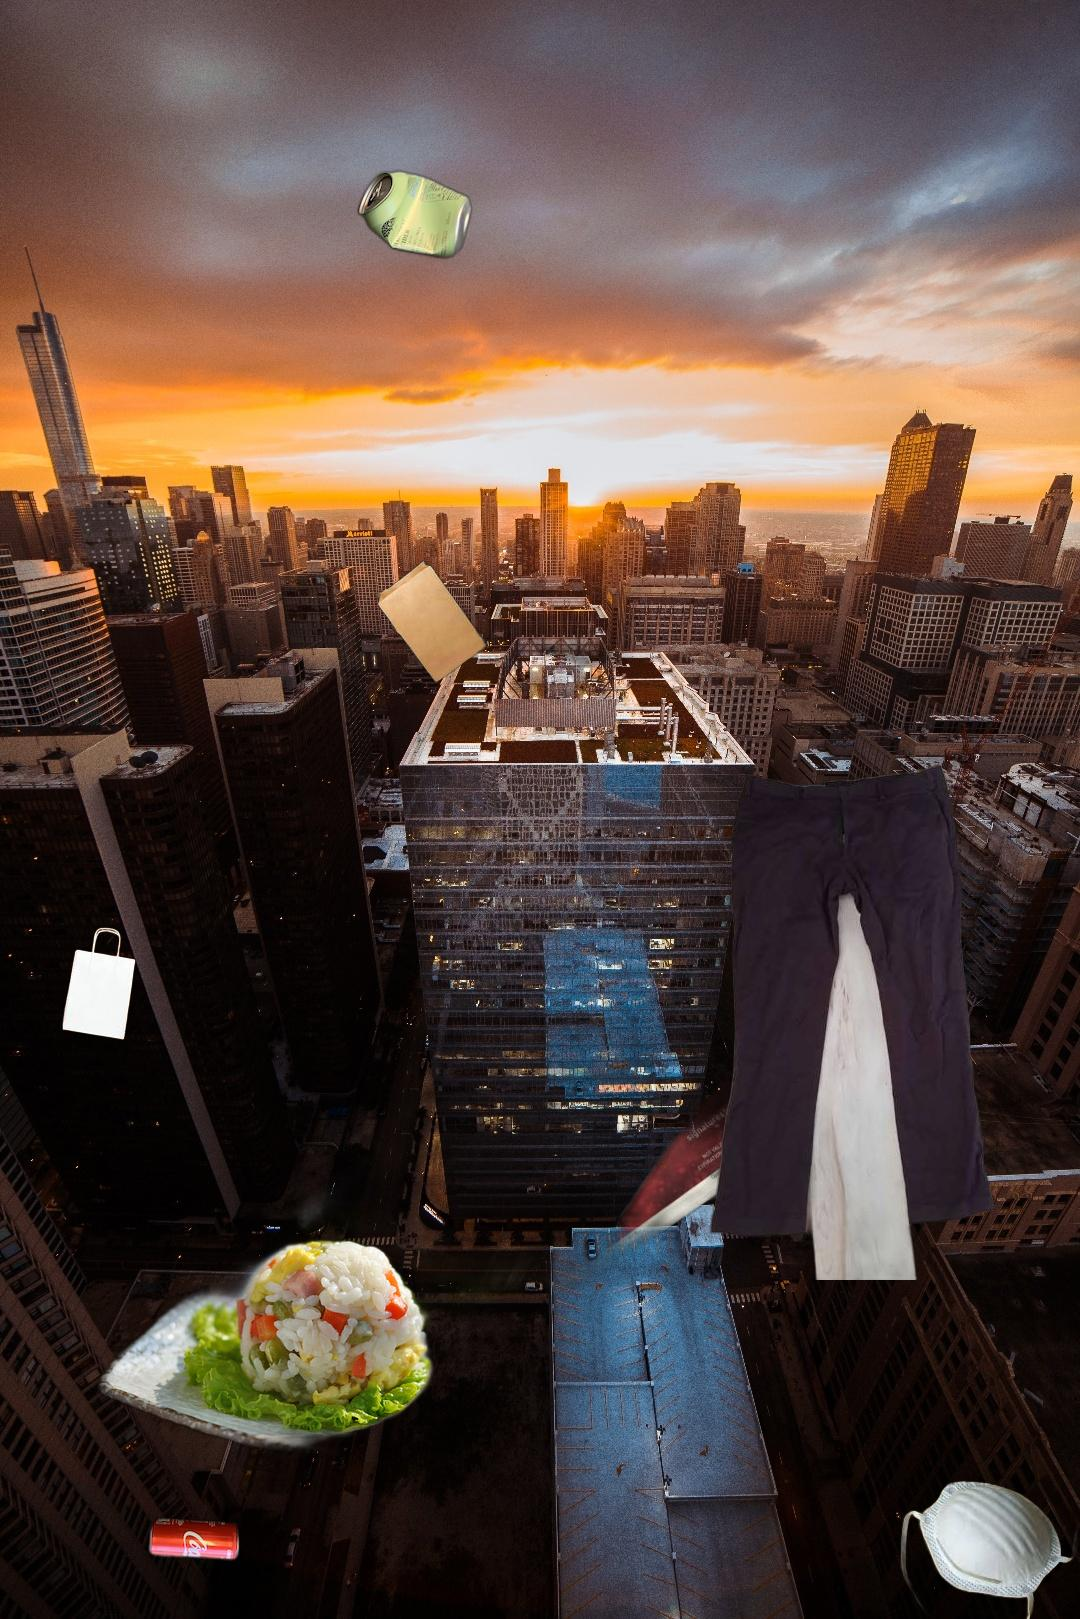biological: (92, 1124, 630, 1471)
clothes: (708, 752, 998, 1280)
metal-cans: (354, 165, 476, 264), (143, 1512, 243, 1566)
paper: (374, 907, 886, 1290)
paper-bag: (370, 410, 651, 692), (59, 926, 139, 1043)
trash: (896, 1450, 1080, 1619)
